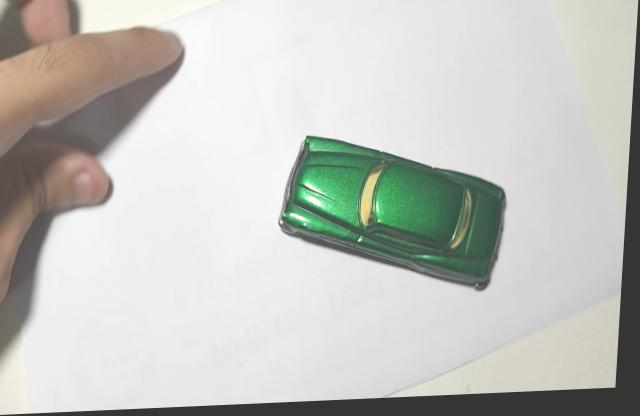06_MASERATI: (282, 139, 510, 296)
